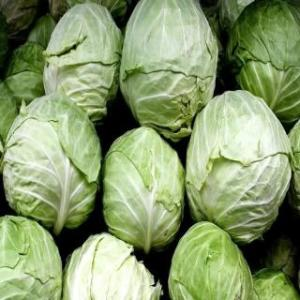cabbage: (186, 92, 292, 252), (118, 0, 220, 144), (6, 93, 102, 235), (102, 126, 184, 252), (46, 2, 124, 123), (226, 4, 300, 126), (61, 232, 165, 300), (168, 221, 256, 300), (1, 212, 64, 300)
